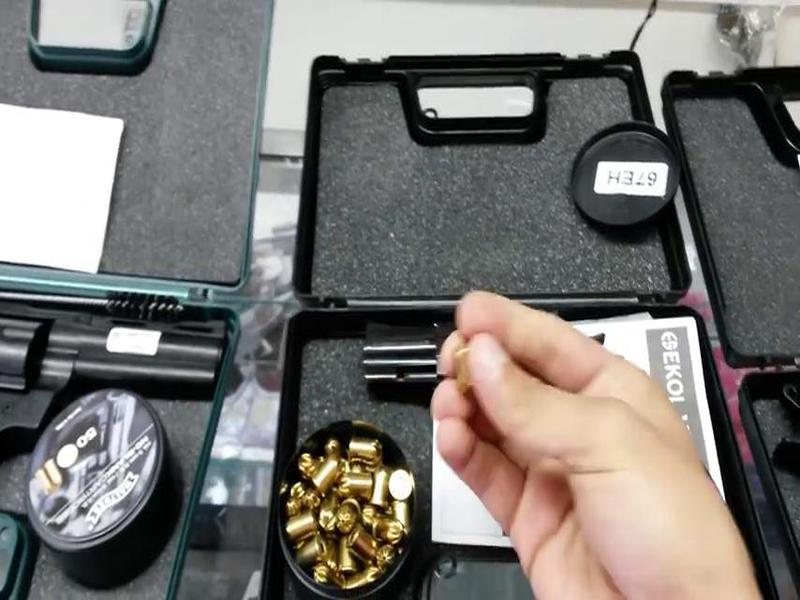Revolver: (357, 278, 627, 439)
